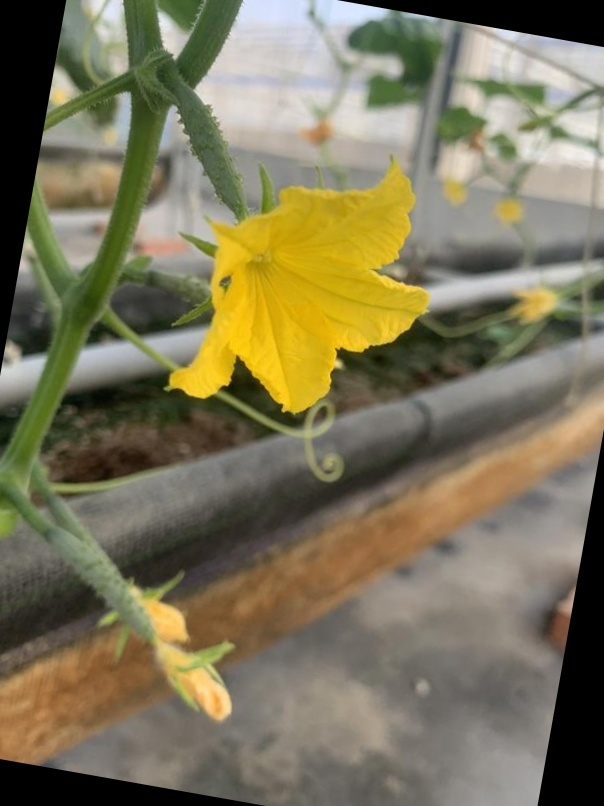bear: (40, 517, 249, 725)
flowering: (151, 148, 440, 414)
